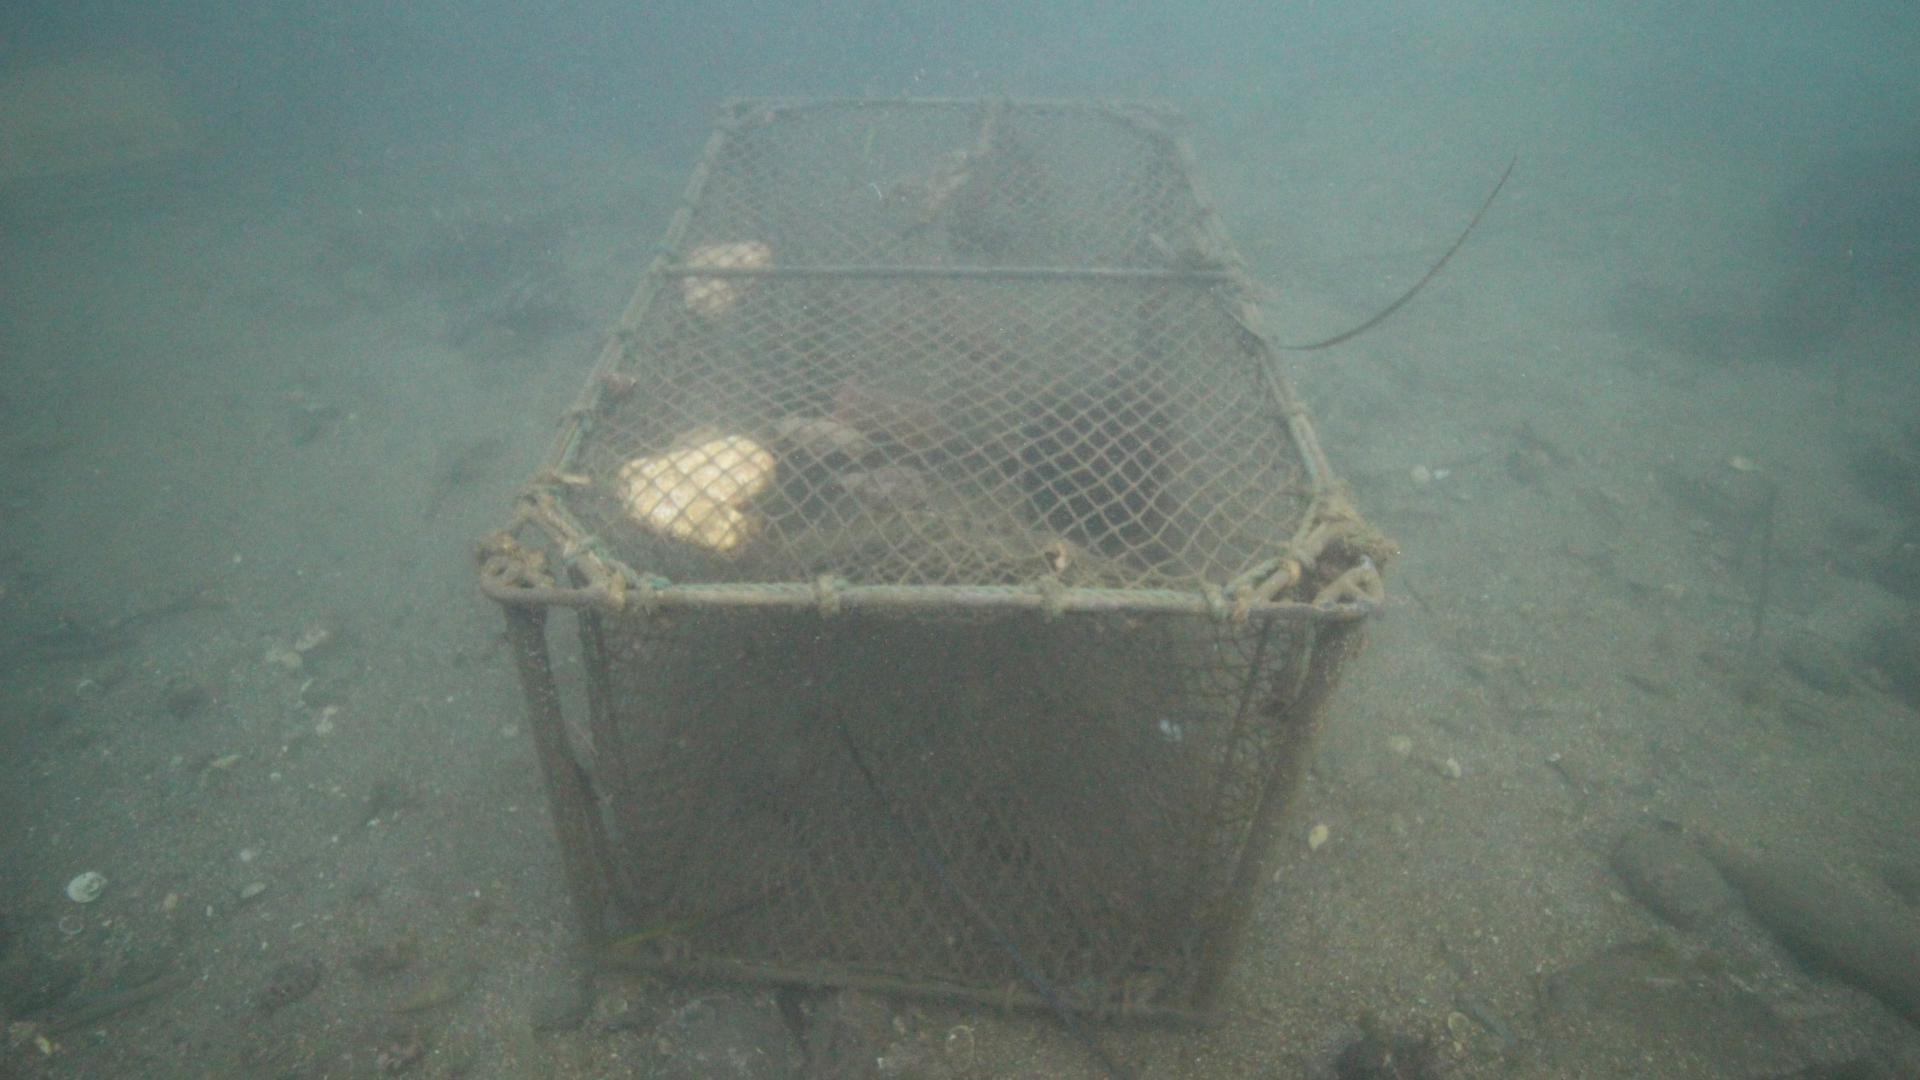rectangular fish trap: (473, 88, 1386, 1025)
